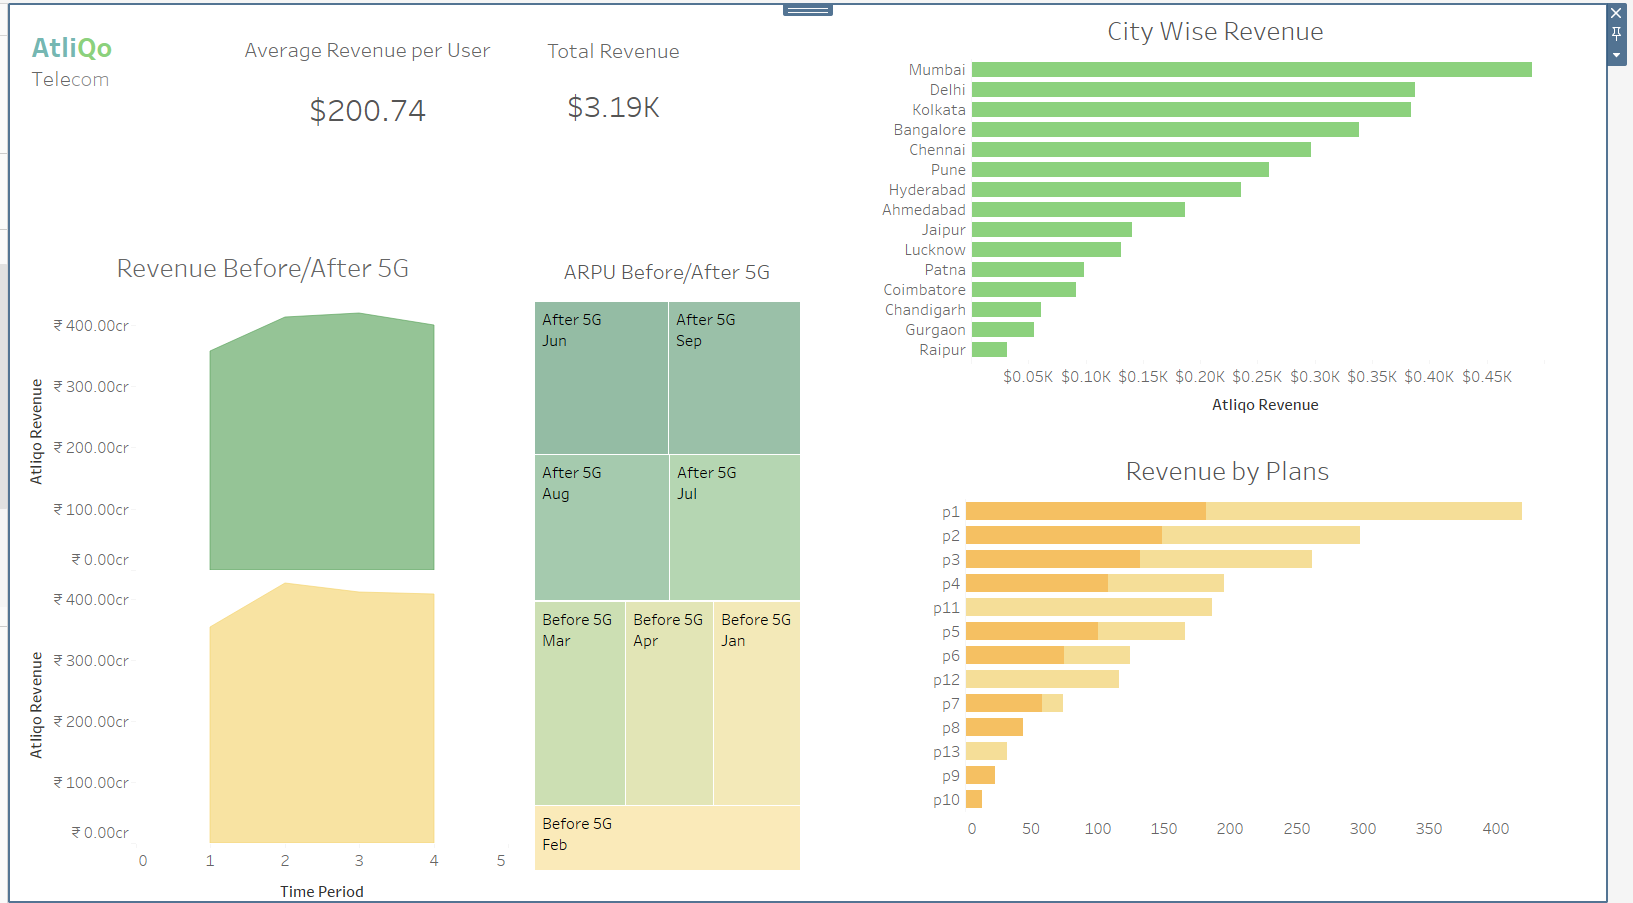

This screenshot's page, from the dashboard's own definition file:
{"tool":"tableau","page":{"name":"Dashboard 1","canvas":[1600,900],"ordinal":0},"visuals":[{"type":"text","box":[20,6,145,103]},{"type":"worksheet","title":"City Based Revenue","mark":"Automatic","rows":["city_name"],"cols":["atliqo_revenue_crores"],"box":[863,6,689,444]},{"type":"worksheet","title":"arpu","mark":"Automatic","box":[225,28,269,125]},{"type":"worksheet","title":"total rev","mark":"Automatic","box":[513,29,185,115]},{"type":"worksheet","title":"Revenue by Plans","mark":"Automatic","rows":["plans"],"cols":["plan_revenue_crores"],"box":[897,446,645,414]}]}

Visuals, with their boxes on the page's 1600x900 design canvas (x1, y1, x2, y2). These are canvas units, not pixel positions in the 1633x903 screenshot, which may show the page scaled, cropped or inside an application window:
text: {"x1": 20, "y1": 6, "x2": 165, "y2": 109}
"City Based Revenue" worksheet: {"x1": 863, "y1": 6, "x2": 1552, "y2": 450}
"arpu" worksheet: {"x1": 225, "y1": 28, "x2": 494, "y2": 153}
"total rev" worksheet: {"x1": 513, "y1": 29, "x2": 698, "y2": 144}
"Revenue by Plans" worksheet: {"x1": 897, "y1": 446, "x2": 1542, "y2": 860}
